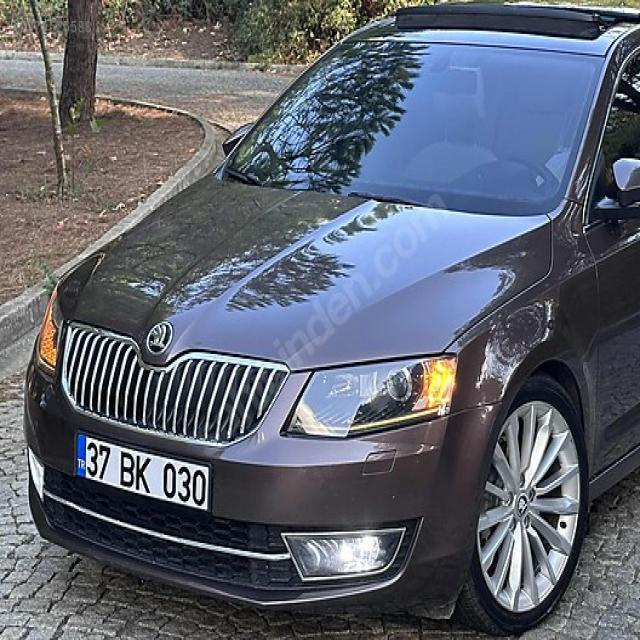skoda: (147, 319, 175, 352)
